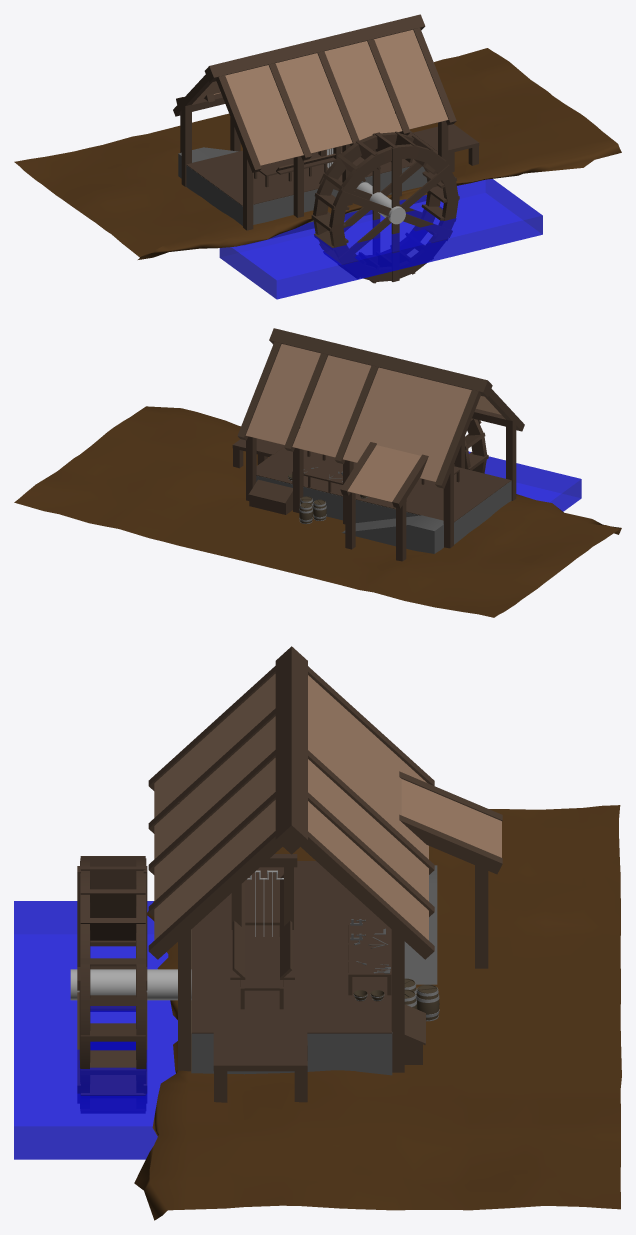
Rendered from SawMill.fbx.
The picture shows the model from 3 angles, top to bottom: view 1: azimuth 30°, elevation 25°; view 2: azimuth 150°, elevation 25°; view 3: azimuth 270°, elevation 25°; orthographic projection. The views are drawn at different scales.
Visible parts, largest first — view 1: pasted__pasted__Floor, pCube78, pCube64, polySurface110, pCube83, polySurface108, pCube32, pCube31, pCube80, pCube25, pCube57, pCube27 (+8 smaller); view 2: pasted__pasted__Floor, pCube77, pCube83, pCube32, polySurface108, pCube64, pCube79, polySurface109, pCube85, pCube30, polySurface110, pCube24 (+13 smaller); view 3: pasted__pasted__Floor, pCube64, pCube83, pCube78, polySurface110, pCube77, pCube32, polySurface108, pCube80, pCube79, pCube24, pCube25 (+19 smaller).
Part boxes in pixels (bbox=[...]): pasted__pasted__Floor: bbox=[14, 48, 621, 259]; pCube78: bbox=[225, 29, 448, 165]; pCube64: bbox=[219, 179, 542, 299]; polySurface110: bbox=[311, 131, 459, 283]; pCube83: bbox=[186, 130, 437, 205]; polySurface108: bbox=[186, 163, 427, 244]; pCube32: bbox=[204, 14, 425, 82]; pCube31: bbox=[216, 75, 261, 172]; pCube80: bbox=[412, 124, 479, 153]; pCube25: bbox=[413, 27, 456, 125]; pCube57: bbox=[268, 63, 311, 160]; pCube27: bbox=[367, 39, 410, 135]; pasted__pasted__Floor: bbox=[14, 406, 621, 617]; pCube77: bbox=[245, 344, 471, 481]; pCube83: bbox=[256, 447, 511, 522]; pCube32: bbox=[269, 328, 492, 397]; polySurface108: bbox=[256, 475, 511, 544]; pCube64: bbox=[468, 451, 581, 511]; pCube79: bbox=[347, 445, 420, 502]; polySurface109: bbox=[342, 515, 443, 553]; pCube85: bbox=[248, 479, 292, 514]; pCube30: bbox=[435, 390, 481, 488]; polySurface110: bbox=[454, 418, 488, 473]; pCube24: bbox=[237, 341, 281, 440]; pasted__pasted__Floor: bbox=[134, 805, 621, 1220]; pCube64: bbox=[14, 901, 177, 1159]; pCube83: bbox=[191, 861, 391, 1033]; pCube78: bbox=[154, 674, 275, 940]; polySurface110: bbox=[77, 856, 147, 1112]; pCube77: bbox=[308, 675, 428, 940]; pCube32: bbox=[275, 646, 307, 854]; polySurface108: bbox=[191, 929, 392, 1075]; pCube80: bbox=[213, 1031, 307, 1071]; pCube79: bbox=[401, 779, 501, 857]; pCube24: bbox=[300, 831, 434, 959]; pCube25: bbox=[148, 831, 282, 959].
Size of the model in its own units: 25.9 by 10.52 by 16.55.
